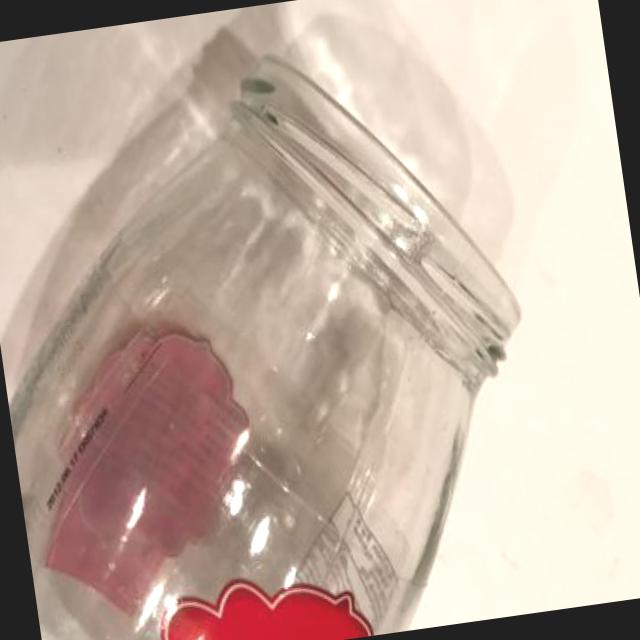chai_thuy_tinh: (0, 30, 521, 640)
